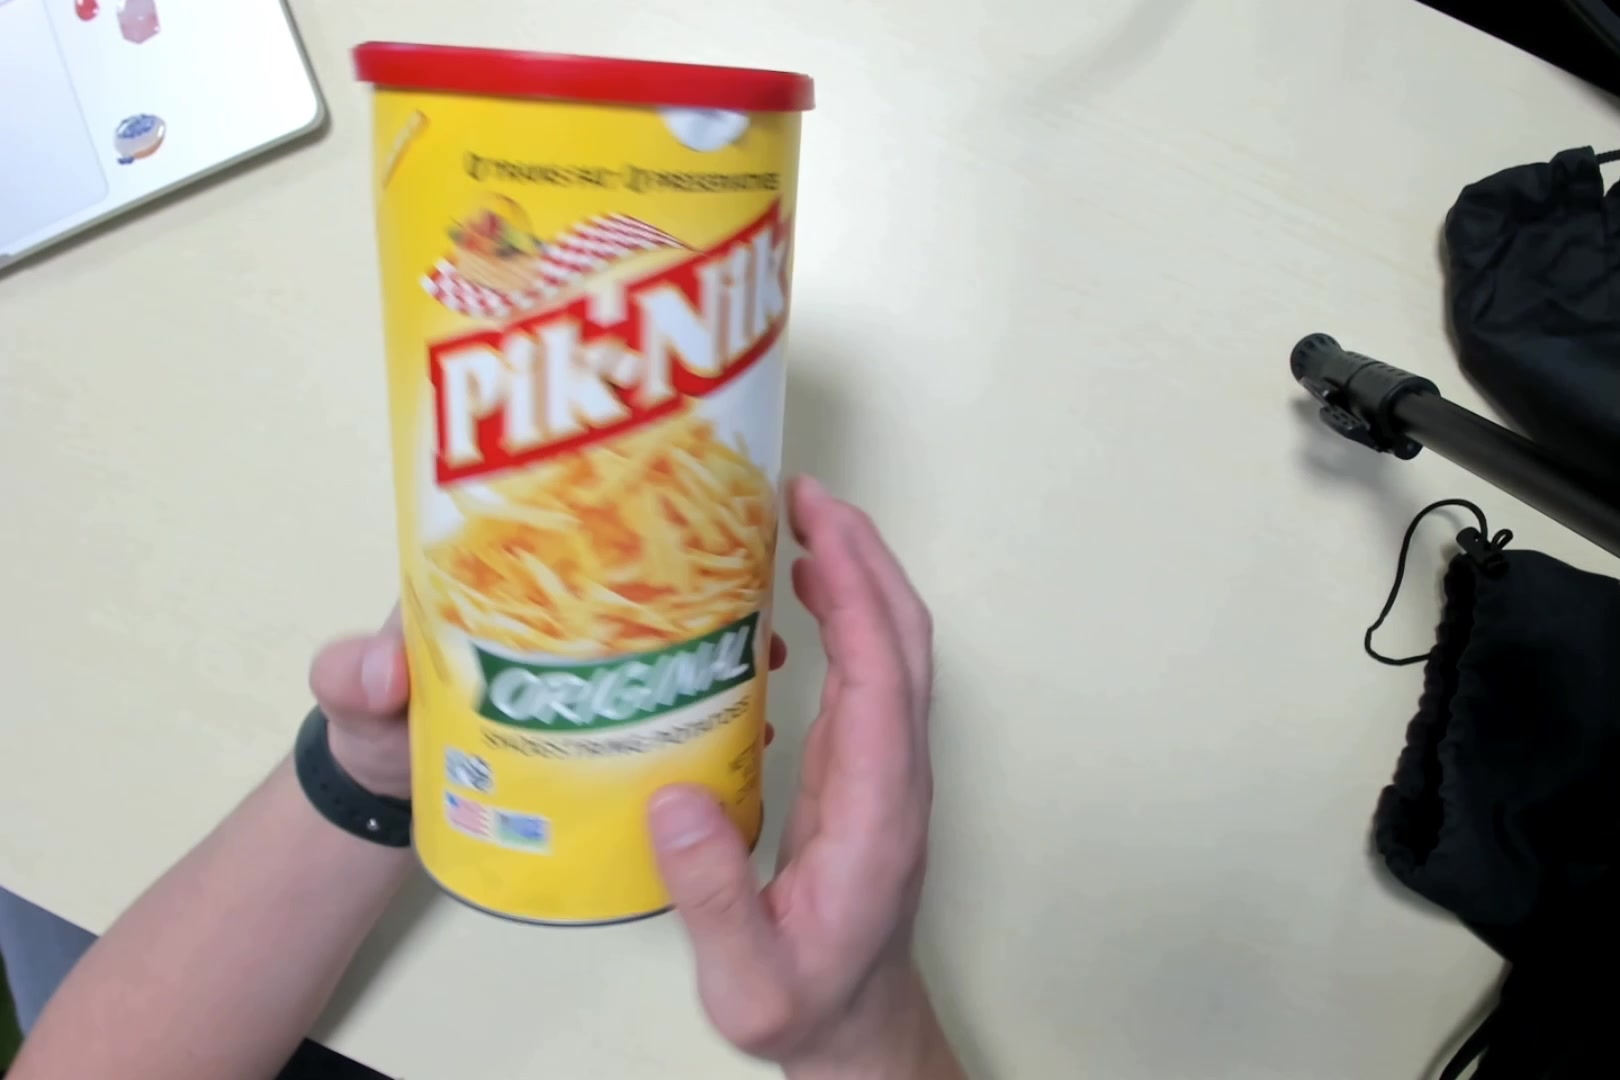PotatoChipsKeropok_200-299g_NonHalal_NonHealthy: (366, 39, 790, 928)
